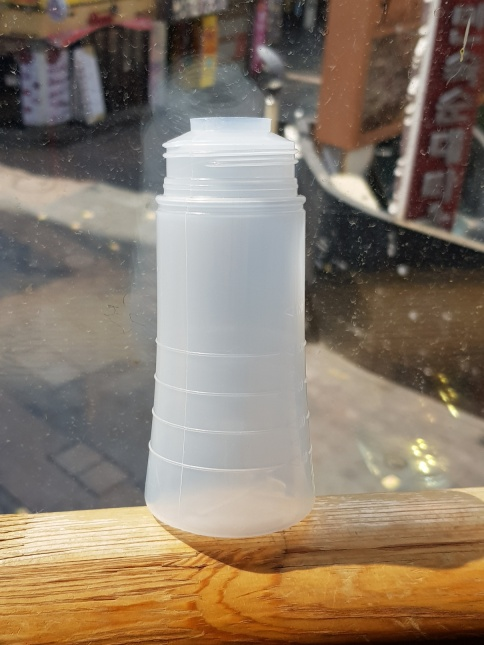Plastic: (140, 105, 321, 543)
